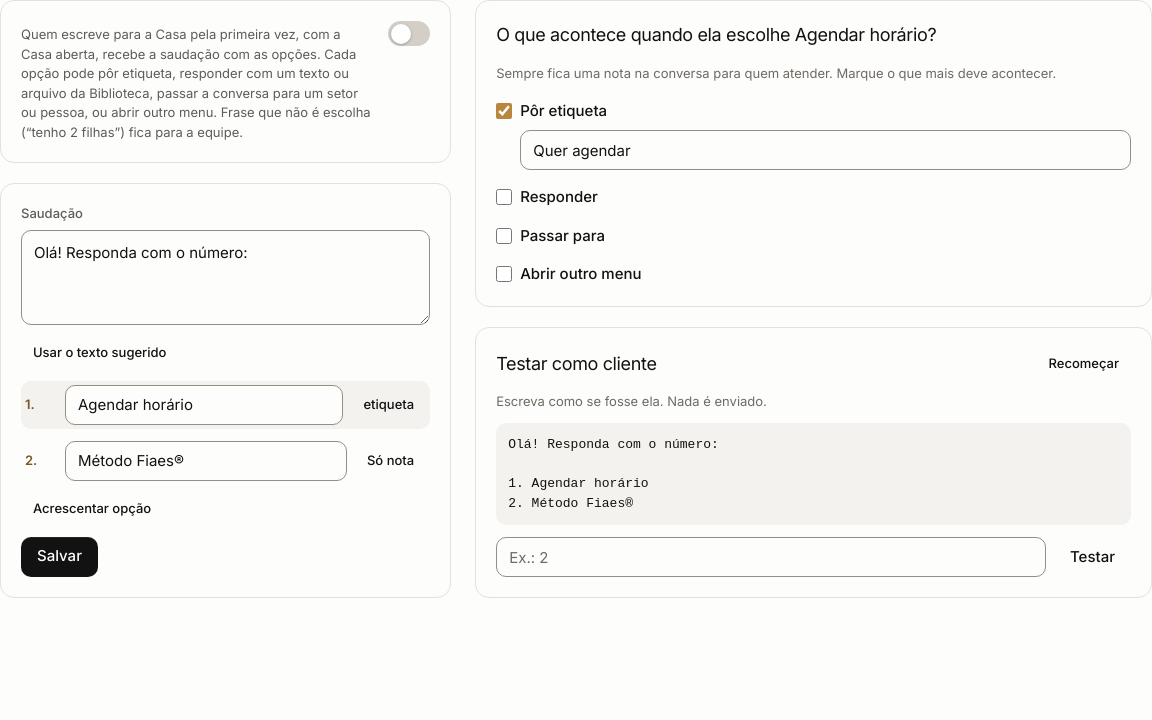
Scenario: uma opção por vez, com a pergunta e as quatro escolhas; o formato antigo abre com a etiqueta marcada
Expected: the heading "O que acontece quando ela escolhe Agendar horário?" is shown, [496,24,936,45]
Expected: the heading "O que acontece quando ela escolhe Método Fiaes®?" is not shown
Click the button with aria-label "Configurar a opção 2": (391, 461) [355,445,426,477]
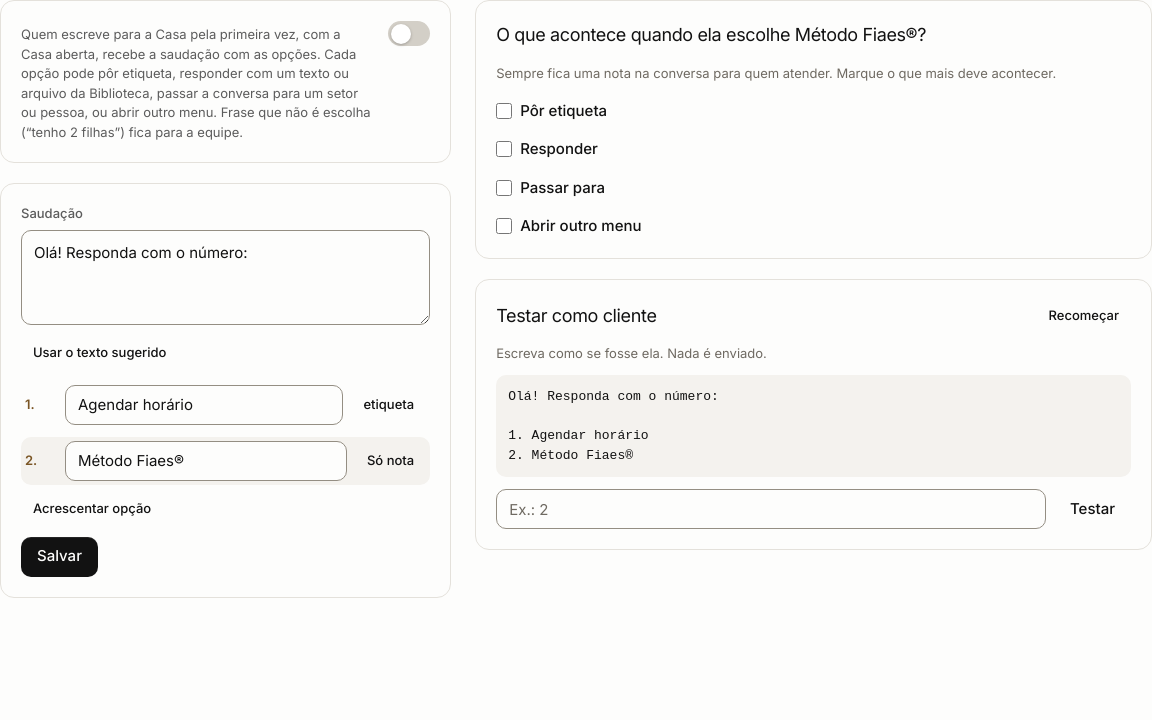
Expected: the heading "O que acontece quando ela escolhe Método Fiaes®?" is shown, [496,24,926,45]
Expected: the heading "O que acontece quando ela escolhe Agendar horário?" is gone
